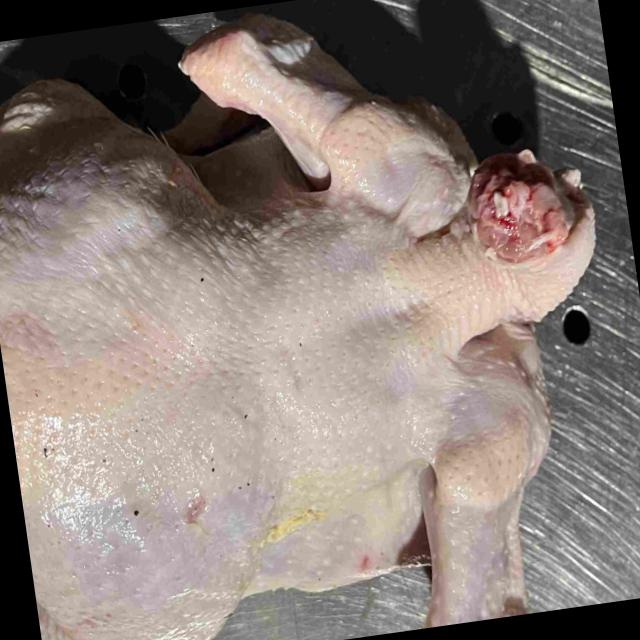back: (0, 209, 454, 624)
leg: (0, 79, 205, 245), (37, 598, 233, 640)
neck: (440, 150, 596, 342)
wing: (181, 16, 476, 239), (423, 393, 550, 629)
